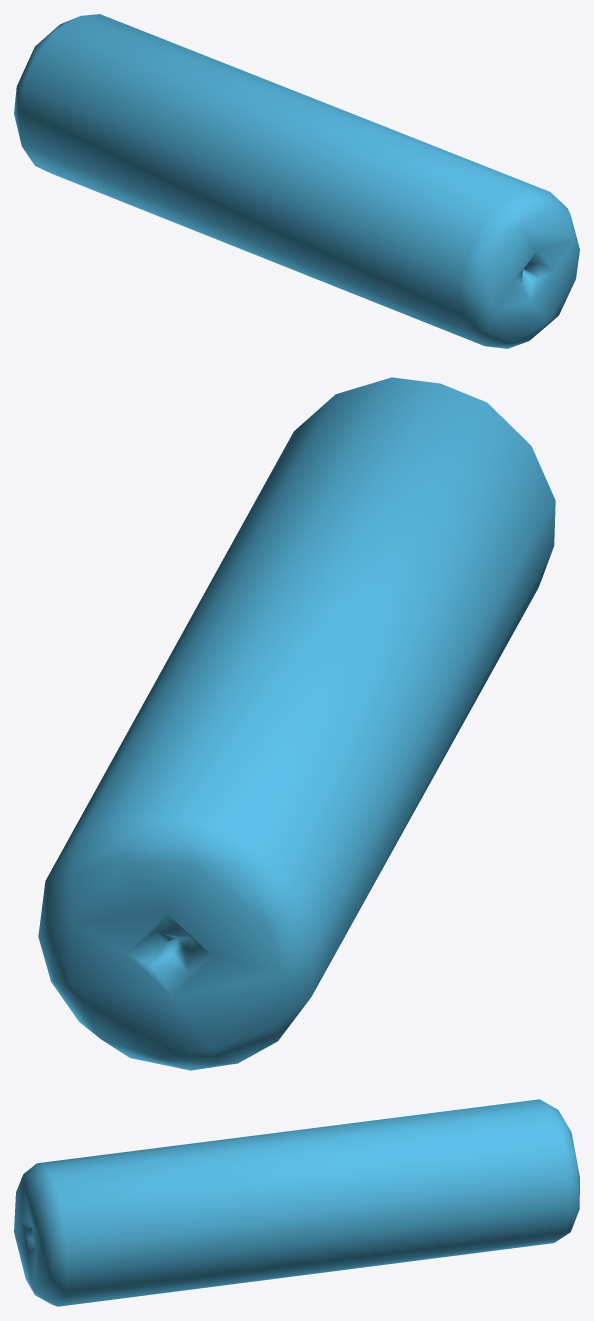
3 renders of one model, top to bottom at view 1: azimuth 30°, elevation 25°; view 2: azimuth 150°, elevation 25°; view 3: azimuth 270°, elevation 25°, orthographic. The views are drawn at different scales.
Parts seen in each view (by area): view 1: Tube; view 2: Tube; view 3: Tube.
Boxes of the visible parts, x1=… form: Tube: x1=14, y1=14, x2=579, y2=348; Tube: x1=38, y1=377, x2=555, y2=1070; Tube: x1=14, y1=1099, x2=579, y2=1306.
Size of the model in its own units: 42.41 by 21.16 by 83.23.
